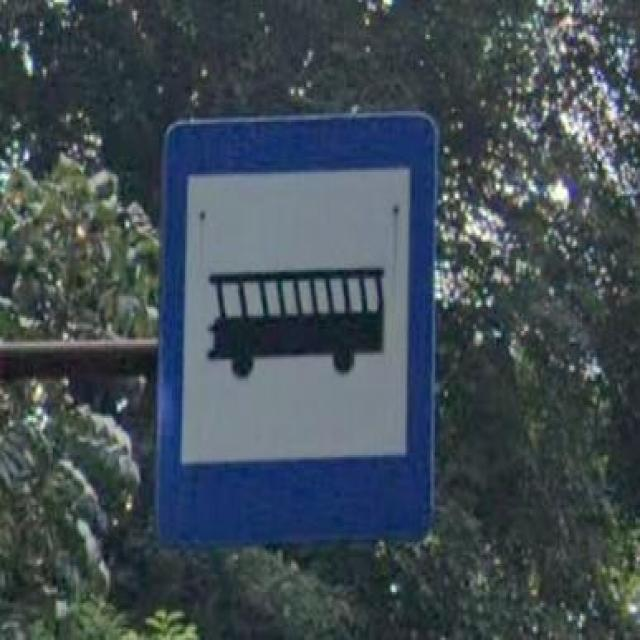traffic sign: (155, 113, 434, 548)
